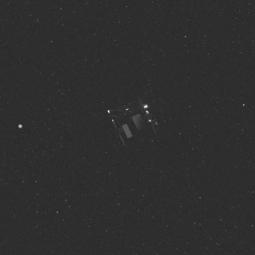proba_3_ocs: (93, 94, 169, 154)
